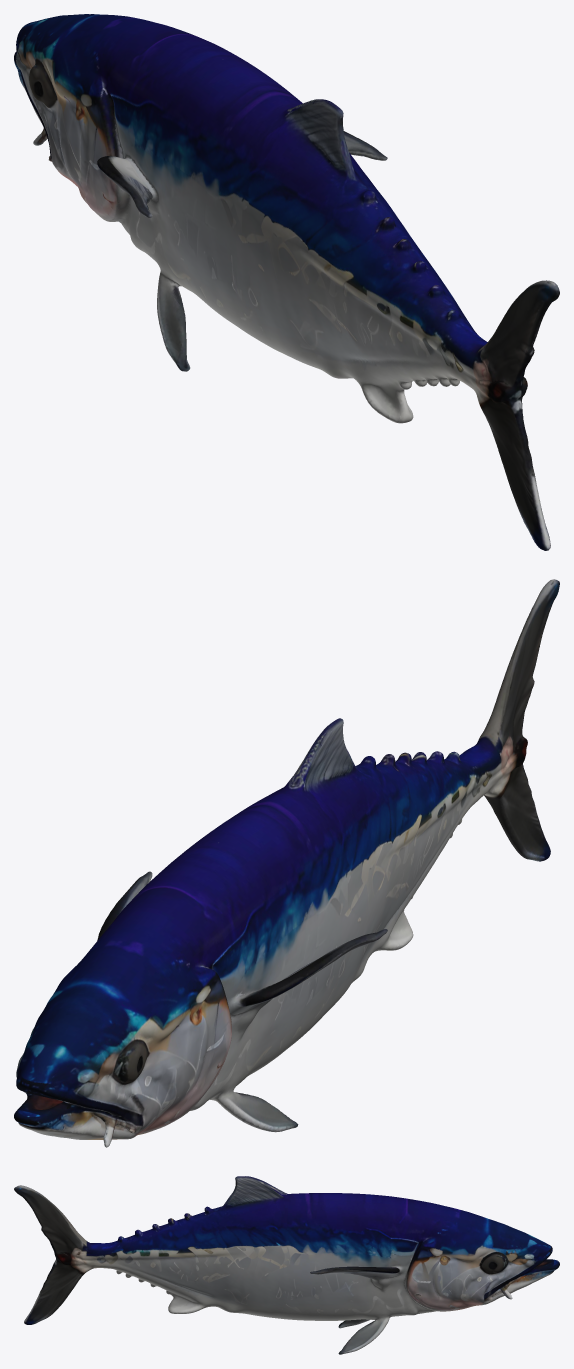
Rendered from fish_skipjack_tuna.glb.
3 renders of one model, top to bottom at view 1: azimuth 30°, elevation 25°; view 2: azimuth 150°, elevation 25°; view 3: azimuth 270°, elevation 25°, orthographic. The views are drawn at different scales.
Parts seen in each view (by area): view 1: tripo_node_5ef94c68-7cb3-4d2e-a416-825aea1c325e; view 2: tripo_node_5ef94c68-7cb3-4d2e-a416-825aea1c325e; view 3: tripo_node_5ef94c68-7cb3-4d2e-a416-825aea1c325e.
Boxes of the visible parts, x1,y1,x2,y2 form: tripo_node_5ef94c68-7cb3-4d2e-a416-825aea1c325e: (14,14,559,550); tripo_node_5ef94c68-7cb3-4d2e-a416-825aea1c325e: (14,579,559,1147); tripo_node_5ef94c68-7cb3-4d2e-a416-825aea1c325e: (14,1176,559,1354).
Size of the model in its own units: 0.2587 by 0.3333 by 1.
Materials: 1 (1 with a texture image).
